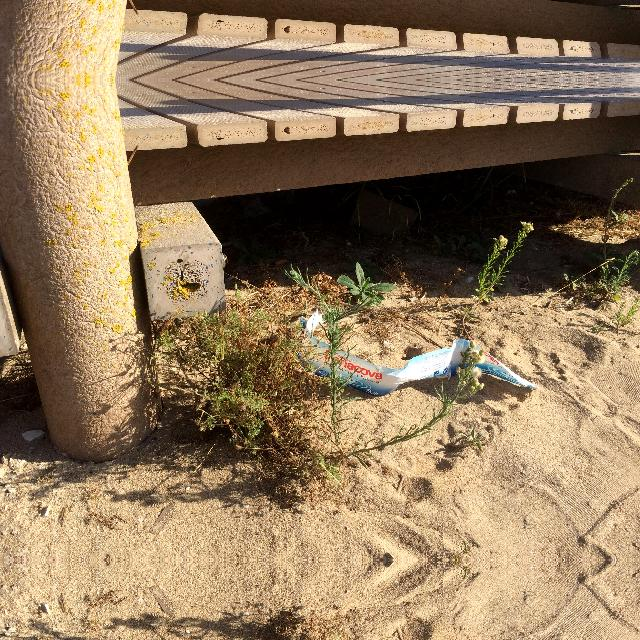Plastic: (284, 304, 554, 404)
